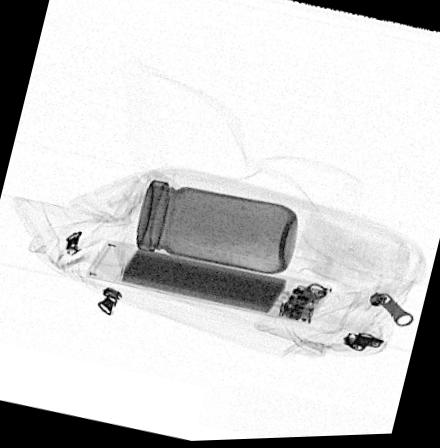Powerbank: (84, 240, 335, 326)
